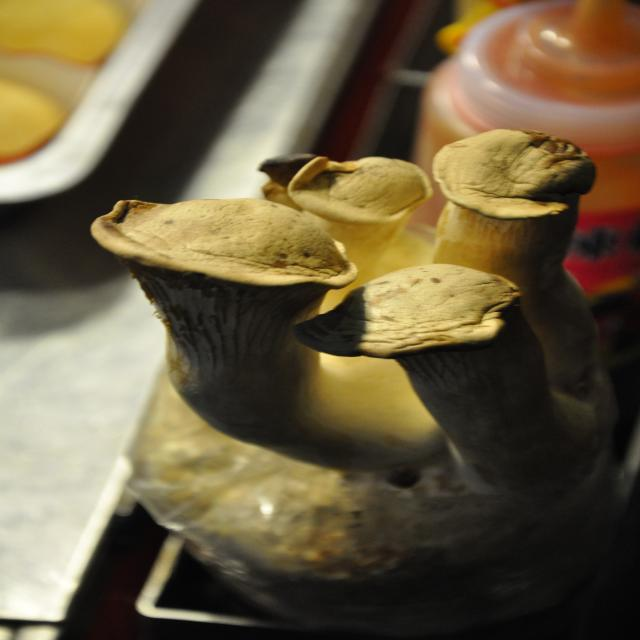Pleurotus eryngii: (240, 57, 640, 279), (224, 196, 566, 385), (393, 283, 640, 405), (538, 170, 640, 289)
